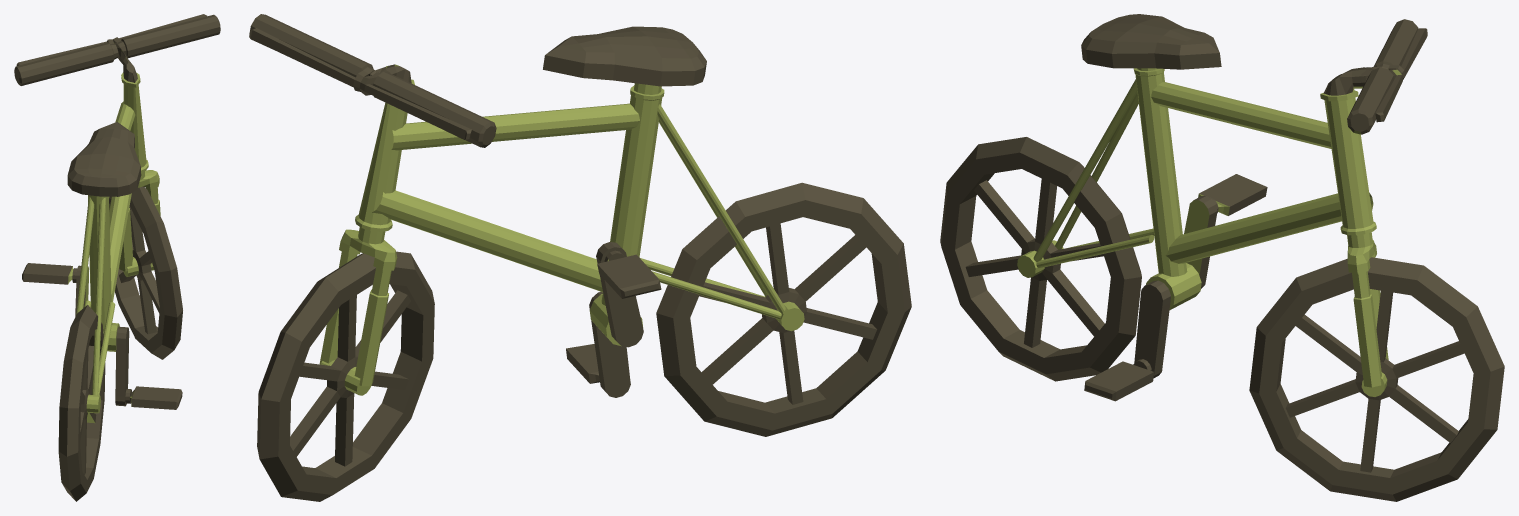
3 renders of one model, left to right at view 1: azimuth 30°, elevation 25°; view 2: azimuth 150°, elevation 25°; view 3: azimuth 270°, elevation 25°, orthographic. The views are drawn at different scales.
Parts seen in each view (by area): view 1: Cylinder; view 2: Cylinder; view 3: Cylinder.
Part boxes in pixels (x1,y1,x2,y2): Cylinder: [14, 14, 220, 501]; Cylinder: [249, 14, 911, 501]; Cylinder: [940, 14, 1504, 501].
Size of the model in its own units: 189 by 188 by 223.
